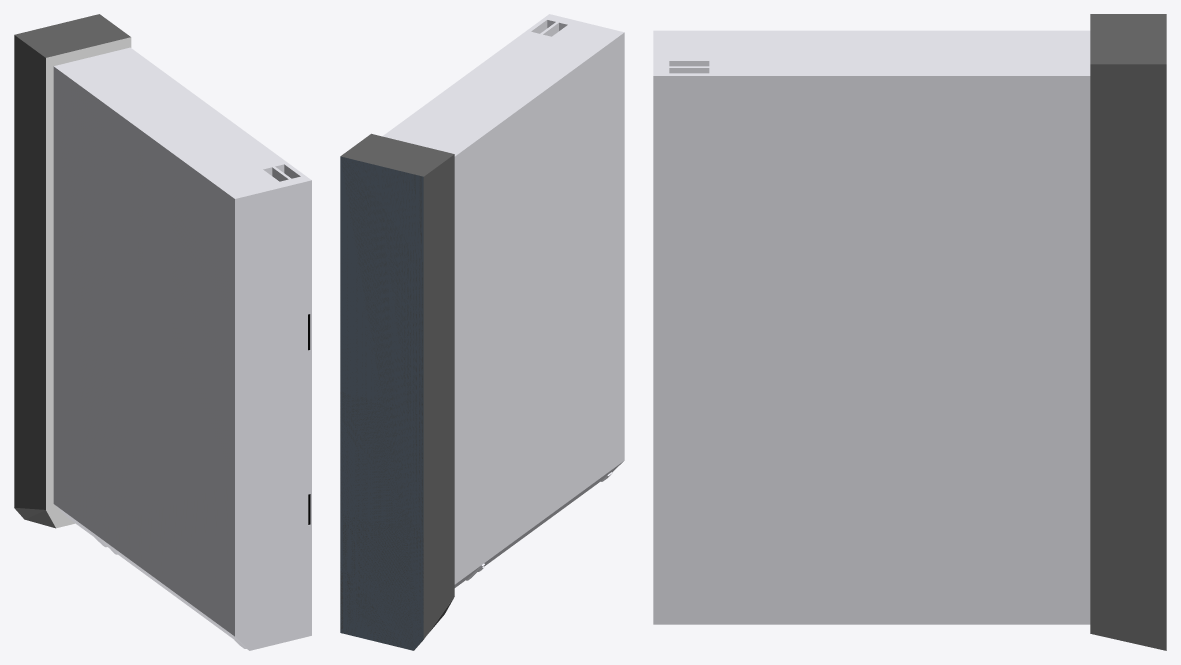
3 views of the same model, side by side, from view 1: azimuth 30°, elevation 25°; view 2: azimuth 150°, elevation 25°; view 3: azimuth 270°, elevation 25° (orthographic). The views are drawn at different scales.
Visible parts, largest first — view 1: another version of nintendo wii; view 2: another version of nintendo wii; view 3: another version of nintendo wii.
Part boxes in pixels (x1,y1,x2,y2): another version of nintendo wii: (14,14,311,650); another version of nintendo wii: (340,14,624,650); another version of nintendo wii: (653,14,1166,650).
Bounding box in the file's own units: 119 × 646 × 512.
